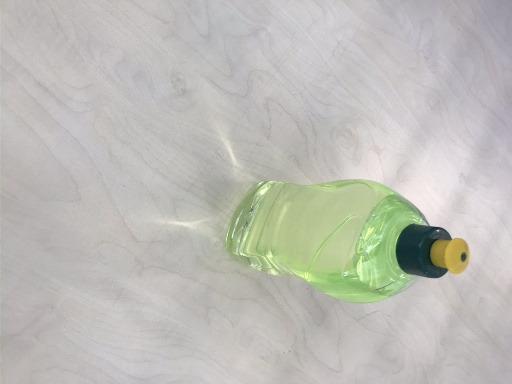Sapone: (225, 178, 473, 303)
